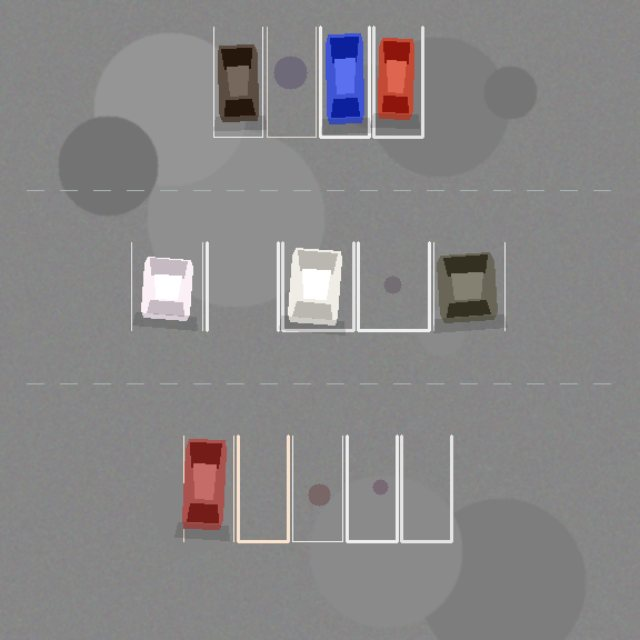space-empty: (207, 242, 278, 330), (358, 242, 429, 330), (267, 27, 316, 137), (238, 436, 288, 541), (292, 436, 342, 541), (347, 436, 397, 541), (401, 436, 451, 541)
space-occupied: (131, 242, 202, 330), (282, 242, 353, 330), (433, 242, 504, 330), (213, 27, 262, 137), (320, 27, 369, 137), (373, 27, 422, 137), (183, 436, 233, 541)
